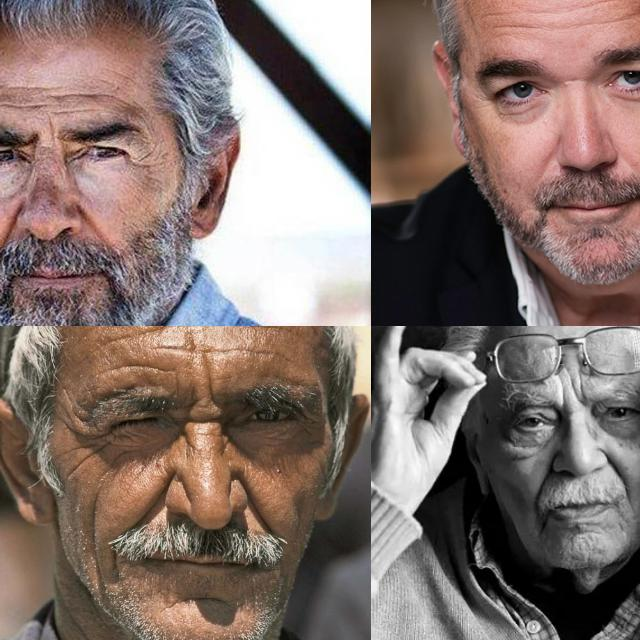chin: (180, 588, 232, 618), (572, 524, 596, 538)
crows_feet: (62, 417, 102, 457), (128, 148, 160, 170)
forehead: (56, 85, 126, 116), (116, 353, 170, 381), (212, 338, 280, 360), (0, 84, 48, 114), (168, 326, 245, 340), (101, 326, 150, 348), (602, 5, 640, 33), (492, 14, 536, 38), (553, 13, 593, 32), (589, 0, 633, 14)
frown_line: (188, 390, 224, 432), (554, 379, 588, 407), (560, 68, 592, 92), (46, 118, 60, 148)
gummy_smile: (238, 480, 274, 534), (134, 473, 170, 522), (0, 199, 23, 247), (78, 205, 104, 242), (602, 452, 626, 486), (533, 460, 553, 500)
masseter: (81, 494, 109, 560)
sad_smile: (536, 513, 550, 539)
